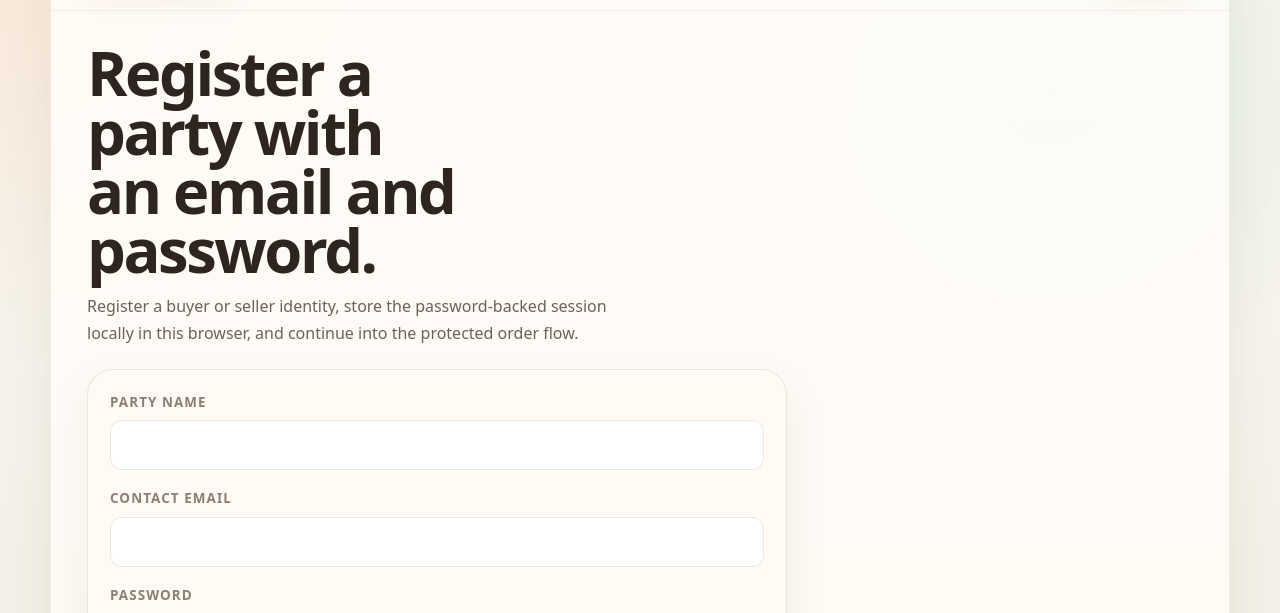
Test case: RegisterPage › maps backend validation failures onto the registration form
The width and height of the screenshot is (1280, 613).
Type "Acme Books" into the field labelled "Party name" at (437, 445), box [110,420,764,470]
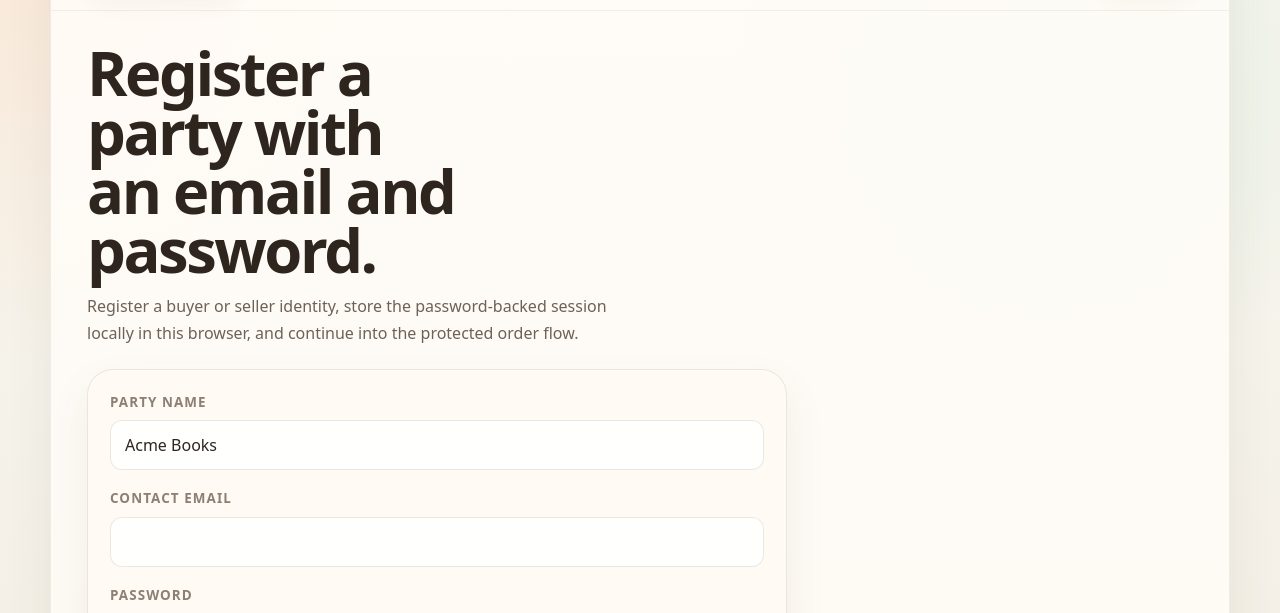
Type "not-an-email" into the field labelled "Contact email" at (437, 542), box [110,517,764,567]
(page scrolled)
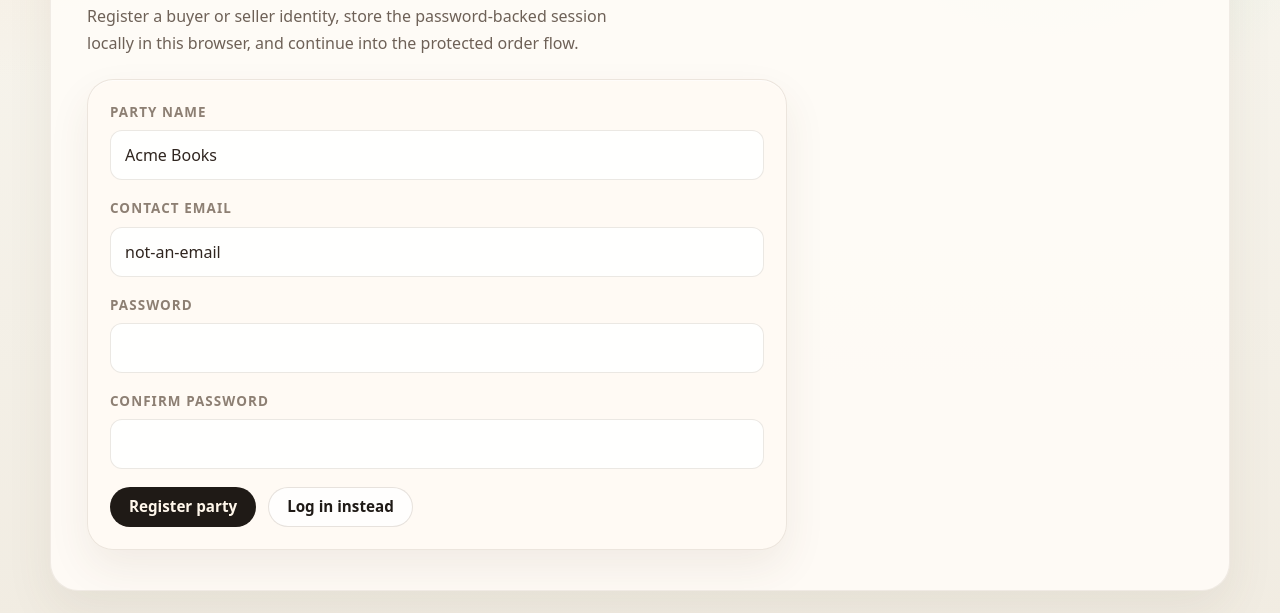
Type "super-secure-password" into the password field labelled "Password" at (437, 348), box [110,323,764,373]
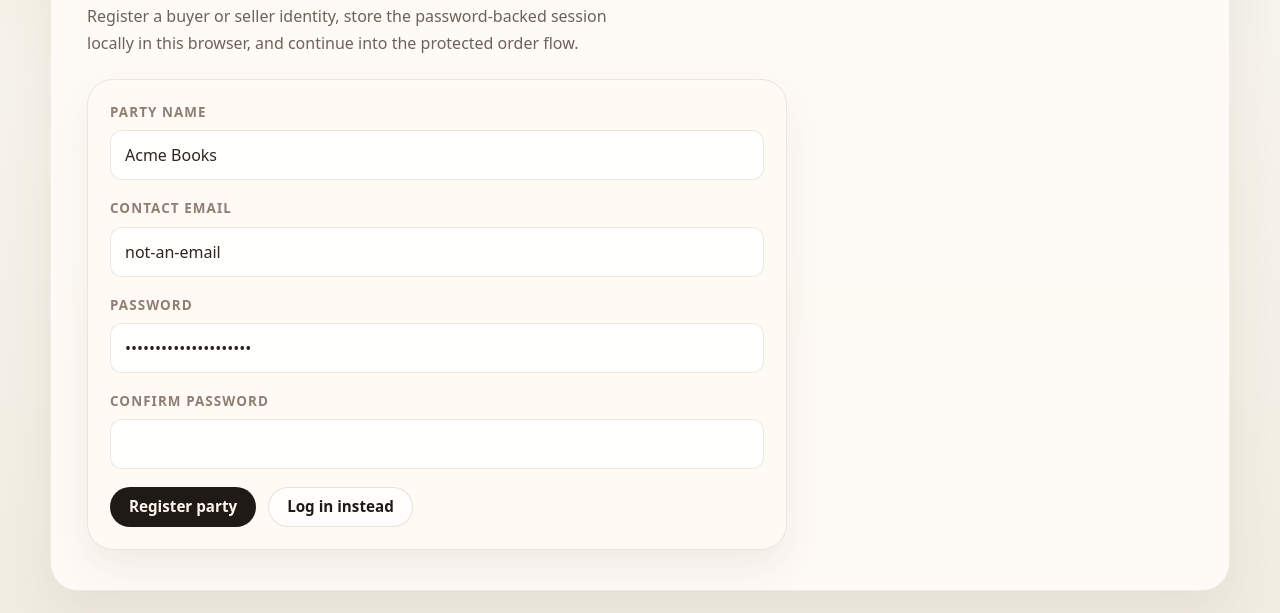
Type "super-secure-password" into the password field labelled "Confirm password" at (437, 444), box [110,419,764,469]
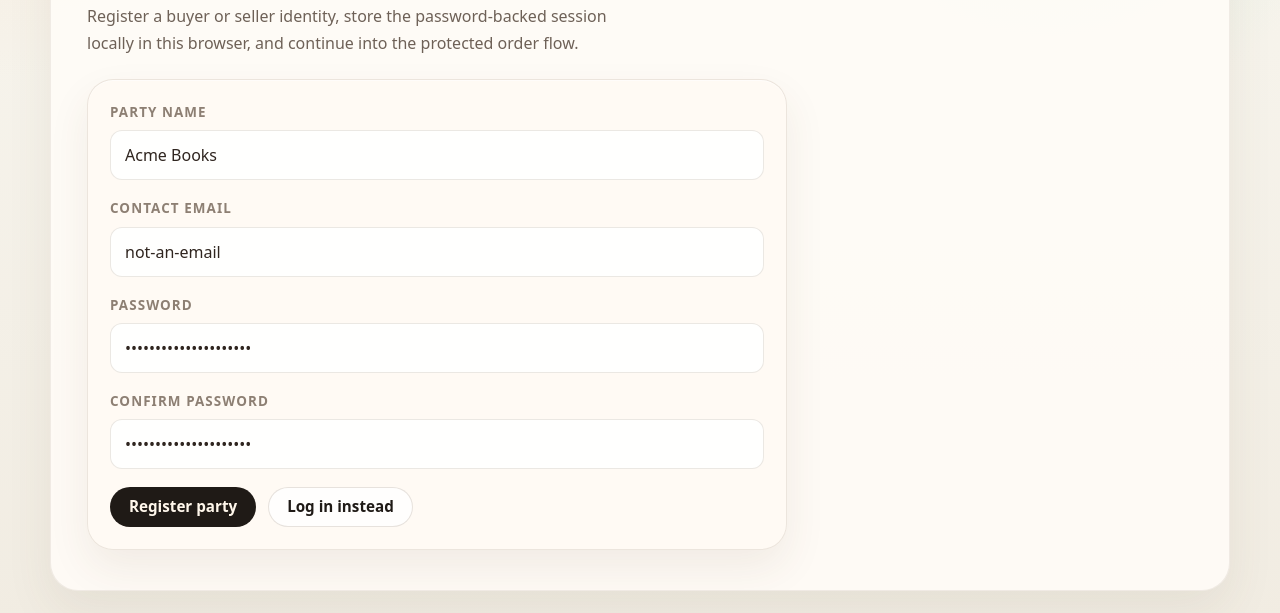
Click the button "Register party" at (183, 507), box [110,487,256,527]
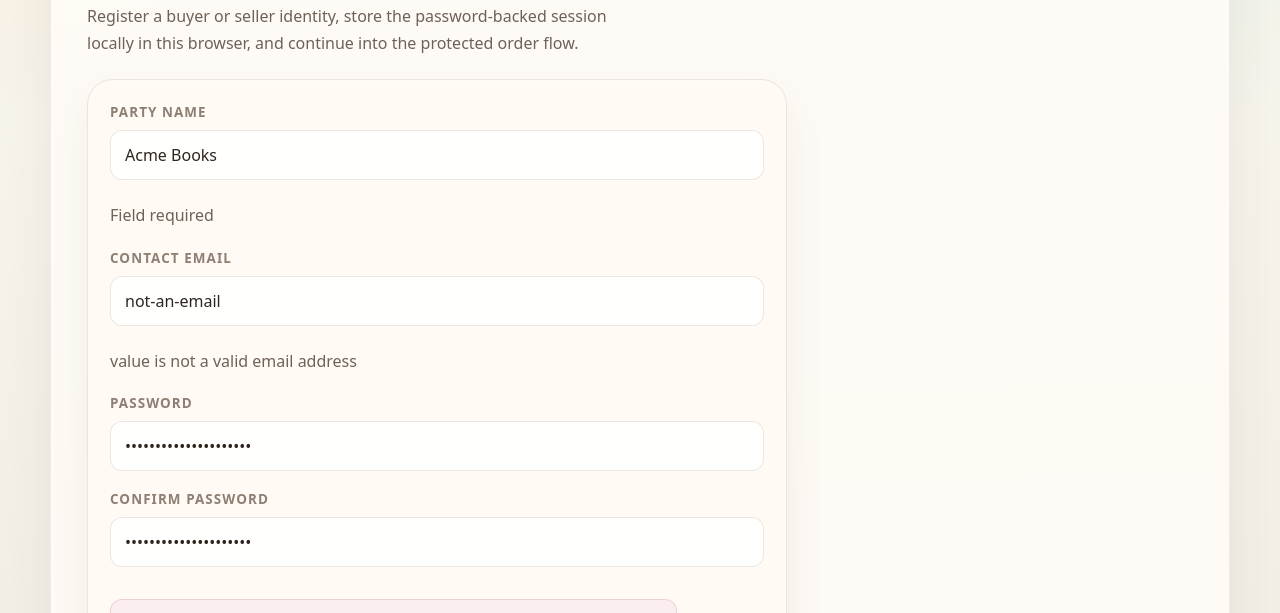
Expected: the text "Field required" is shown, [110,204,214,226]
Expected: the text "value is not a valid email address" is shown, [110,350,357,372]
